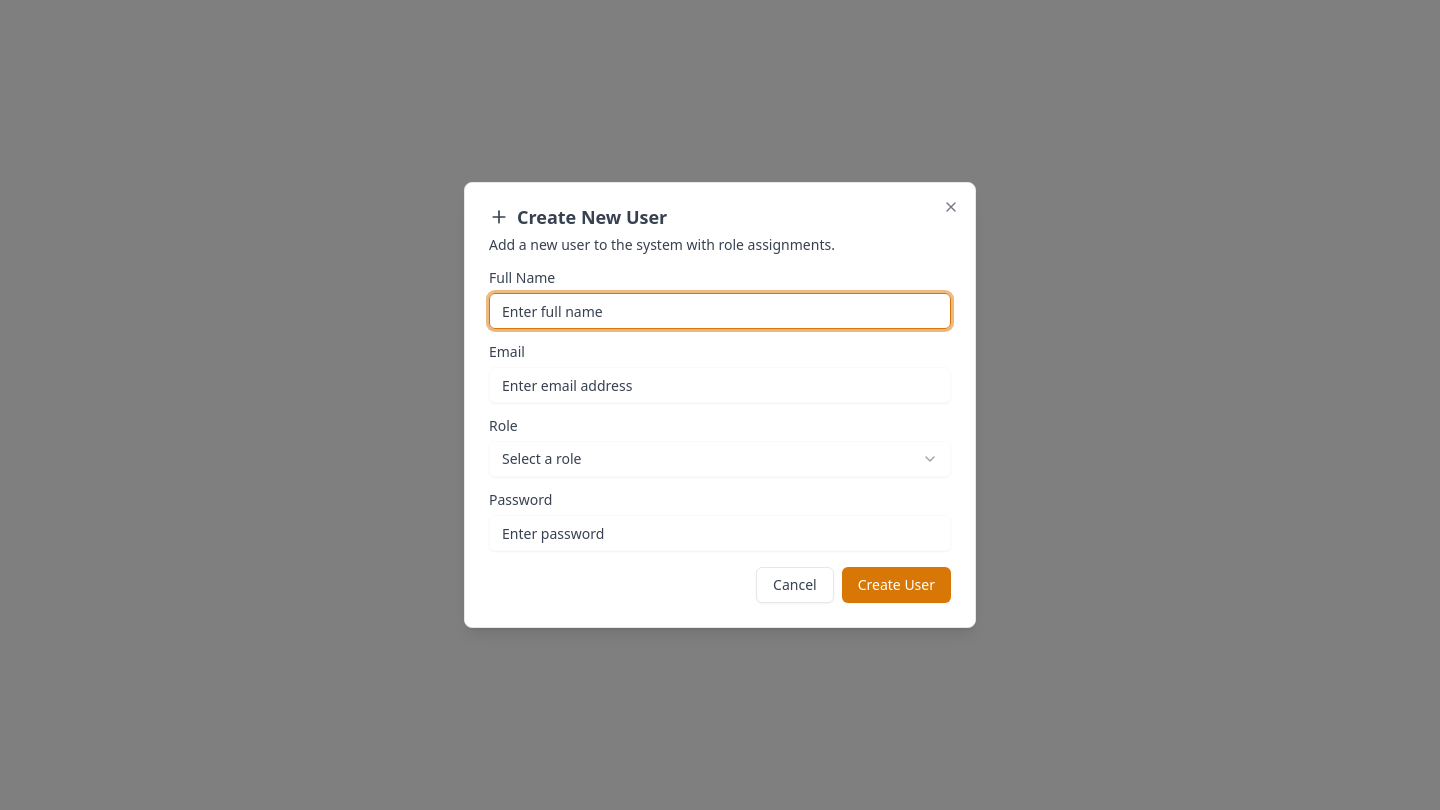
Test case: CreateUserModal Component › validates required fields
Step 1. Click the button "Create User" → (896, 585), box [842, 567, 951, 603]
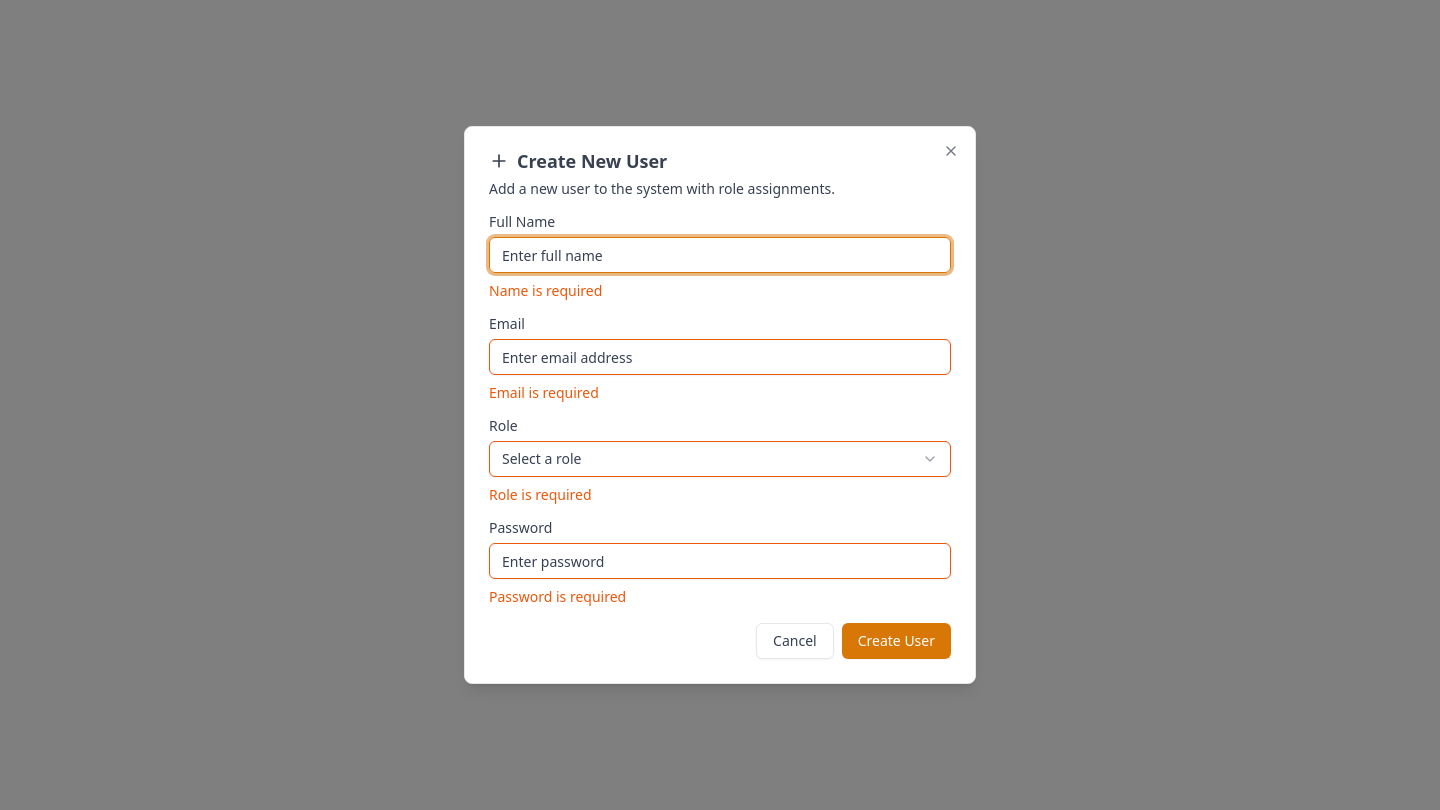
Check: the text "Name is required" is shown, box [489, 281, 602, 300]
